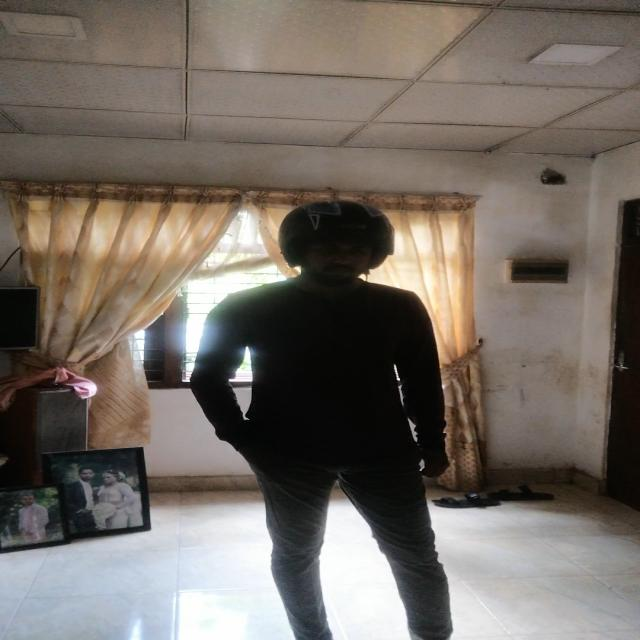Helmet_Wearer: (267, 202, 413, 292)
Person: (184, 193, 511, 624)
